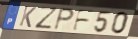0: (109, 11, 131, 35)
5: (93, 10, 112, 34)
F: (71, 9, 96, 32)
K: (18, 5, 38, 28)
P: (52, 7, 76, 32)
Z: (34, 6, 60, 30)
